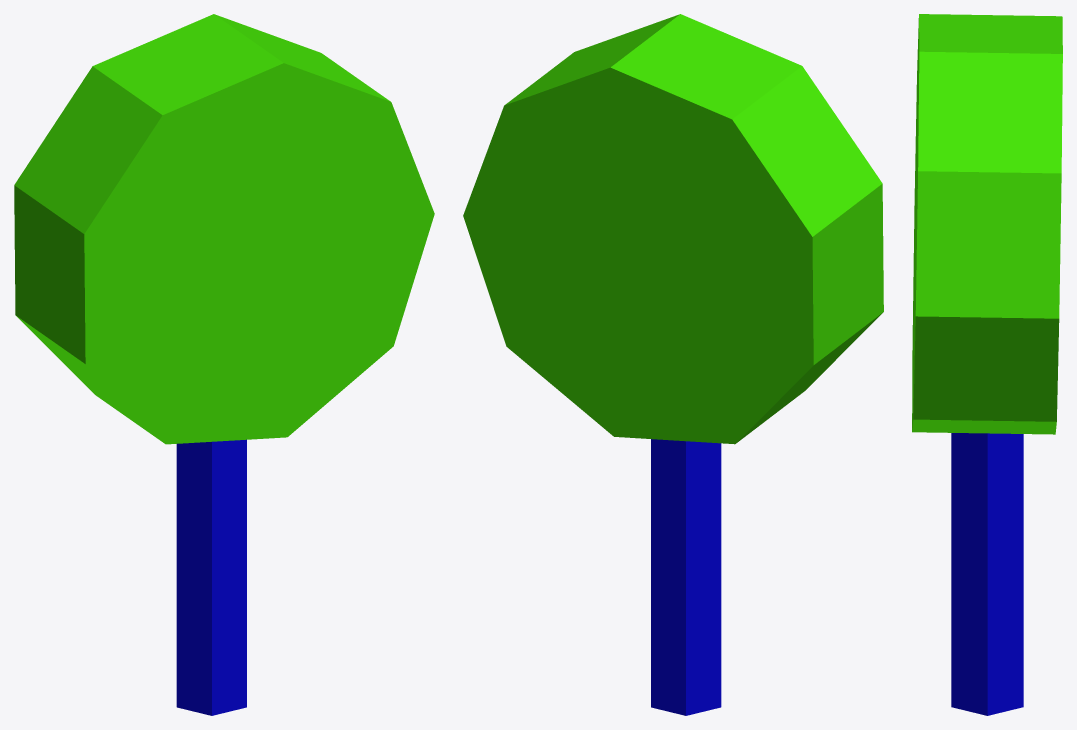
The model's file is lolipop_fbx.fbx.
3 renders of one model, left to right at view 1: azimuth 30°, elevation 25°; view 2: azimuth 150°, elevation 25°; view 3: azimuth 270°, elevation 25°, orthographic. The views are drawn at different scales.
Visible parts, largest first — view 1: lolipop_upper_area, pasted__pasted__stick; view 2: lolipop_upper_area, pasted__pasted__stick; view 3: lolipop_upper_area, pasted__pasted__stick.
Boxes of the visible parts, left/top/right/bottom form: lolipop_upper_area: left=14, top=14, right=434, bottom=444; pasted__pasted__stick: left=176, top=439, right=246, bottom=715; lolipop_upper_area: left=463, top=14, right=883, bottom=444; pasted__pasted__stick: left=651, top=439, right=721, bottom=715; lolipop_upper_area: left=912, top=14, right=1062, bottom=434; pasted__pasted__stick: left=951, top=433, right=1023, bottom=715.
Size of the model in its own units: 1.94 by 3.45 by 0.7076.
